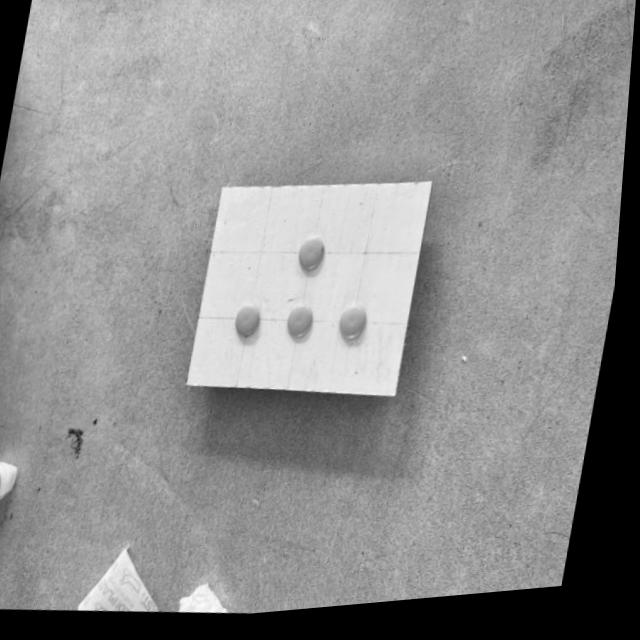braiile: (193, 190, 435, 403)
